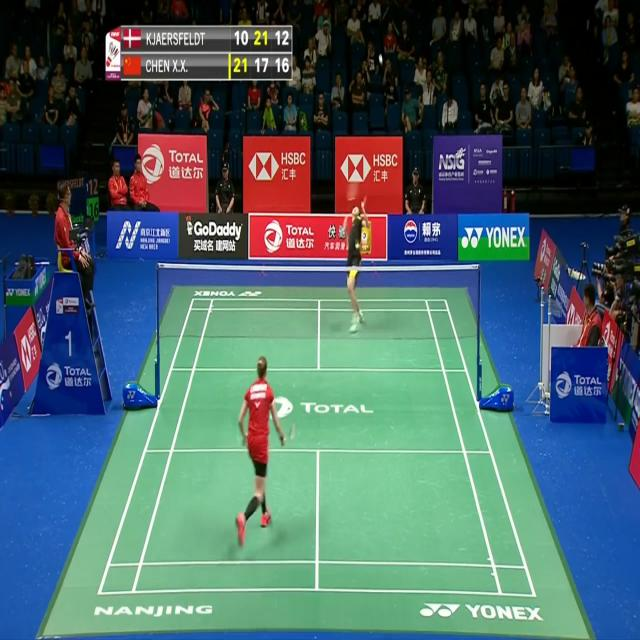Player1: (228, 345, 306, 557)
Player2: (332, 170, 378, 337)
